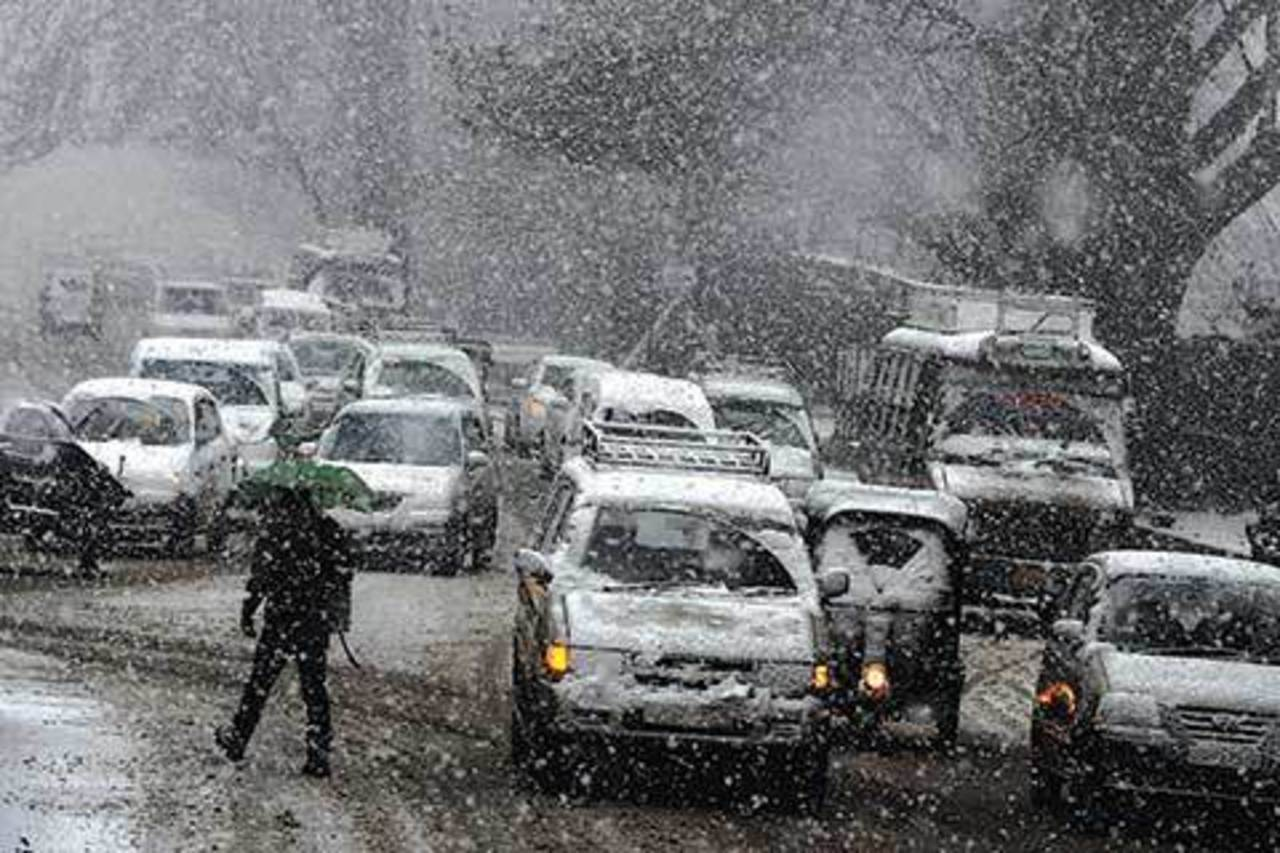car: (503, 452, 840, 812), (1023, 542, 1279, 833), (807, 483, 967, 755), (304, 396, 504, 579), (39, 383, 258, 540), (125, 342, 295, 471), (695, 377, 835, 518), (358, 347, 493, 442), (278, 333, 378, 447), (575, 378, 714, 460), (137, 274, 240, 352), (513, 349, 549, 447)
person: (216, 468, 357, 785)
truck: (875, 315, 1141, 637)
